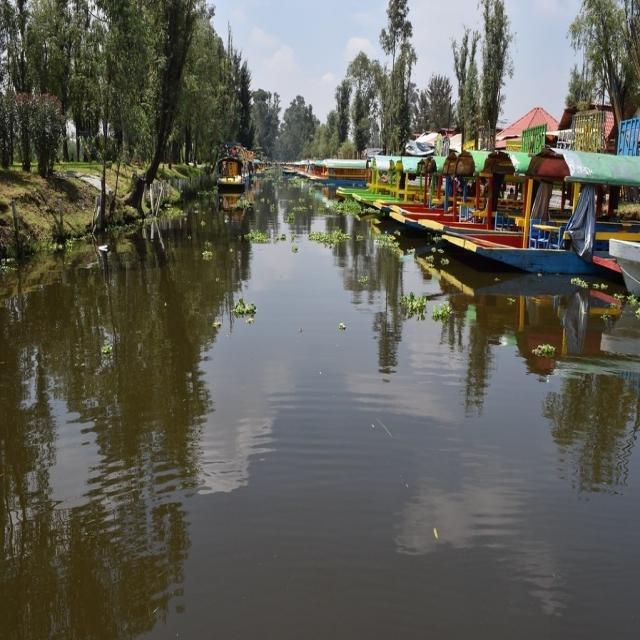Hyacinth: (220, 293, 261, 328), (307, 228, 351, 251), (398, 295, 428, 318), (47, 234, 78, 255), (369, 232, 400, 251), (527, 341, 558, 358), (619, 290, 635, 322), (158, 204, 186, 222), (331, 200, 362, 216), (240, 229, 270, 245), (433, 303, 458, 322), (567, 274, 584, 300), (98, 342, 111, 358), (199, 249, 213, 261), (290, 206, 310, 213), (284, 213, 296, 223), (439, 256, 450, 266), (289, 246, 300, 254), (357, 232, 363, 246)
boat: (212, 153, 245, 194)
